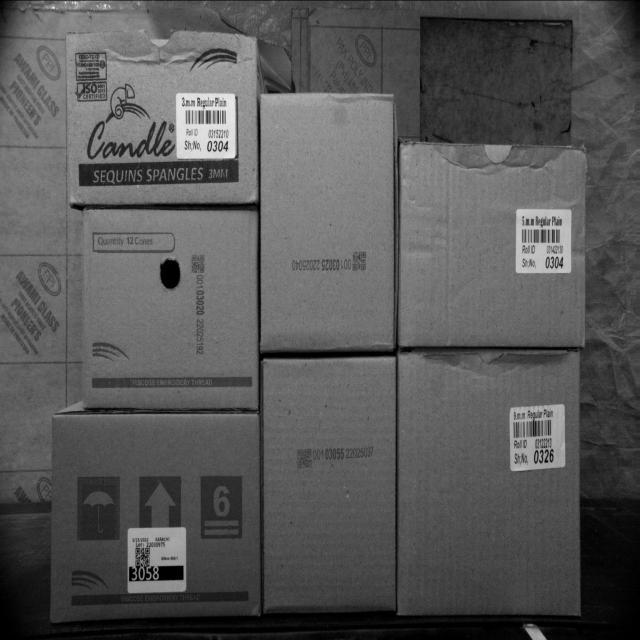box: (397, 350, 584, 615), (52, 418, 262, 616), (398, 144, 587, 349), (80, 208, 258, 410), (264, 354, 398, 610), (68, 28, 258, 204)
